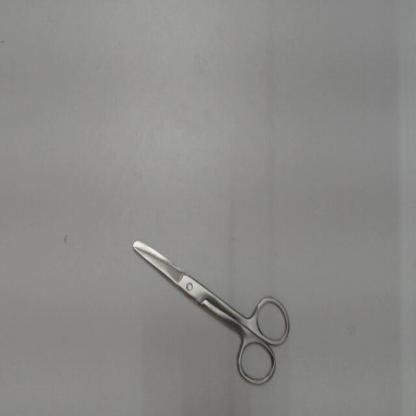Dressing Scissors: (119, 229, 300, 395)
